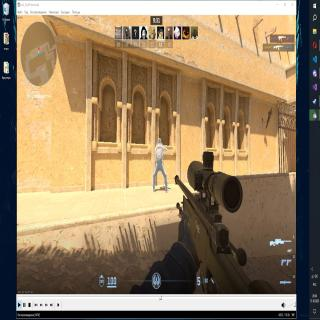T-Body: (152, 136, 170, 194)
T-Head: (157, 136, 162, 148)
